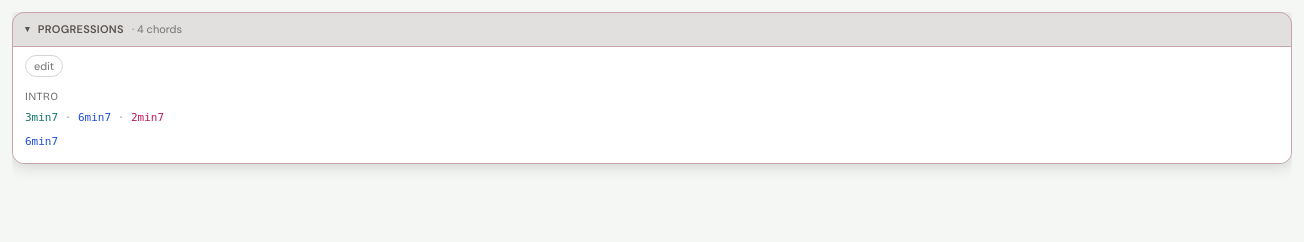
Test case: a row break from stored data › renders the control and opens the choices row on tap
Click the button "edit": [44, 66] box [25,54,63,77]
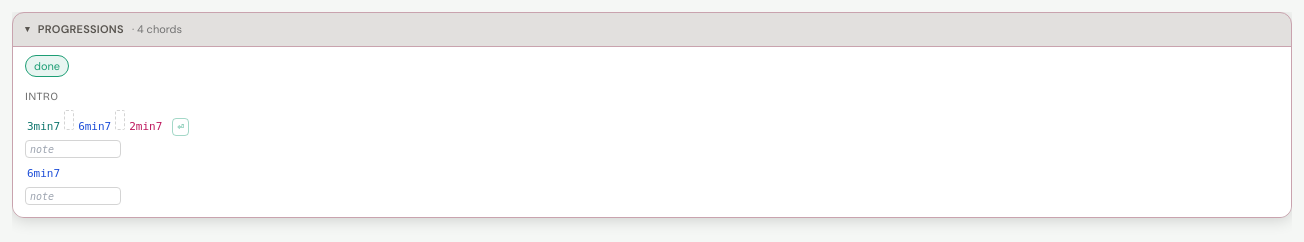
Result: the button named "edit this line break" is shown
Click the button named "edit this line break": [181, 127] box [172,118,189,136]
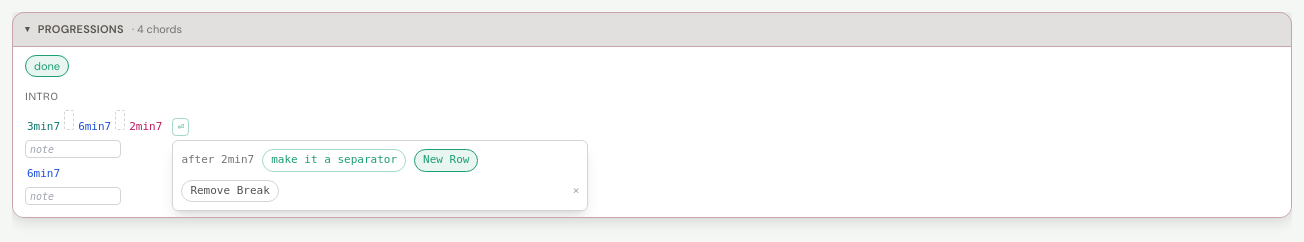
Result: the button "make it a separator" is shown at [262,149,406,172]
